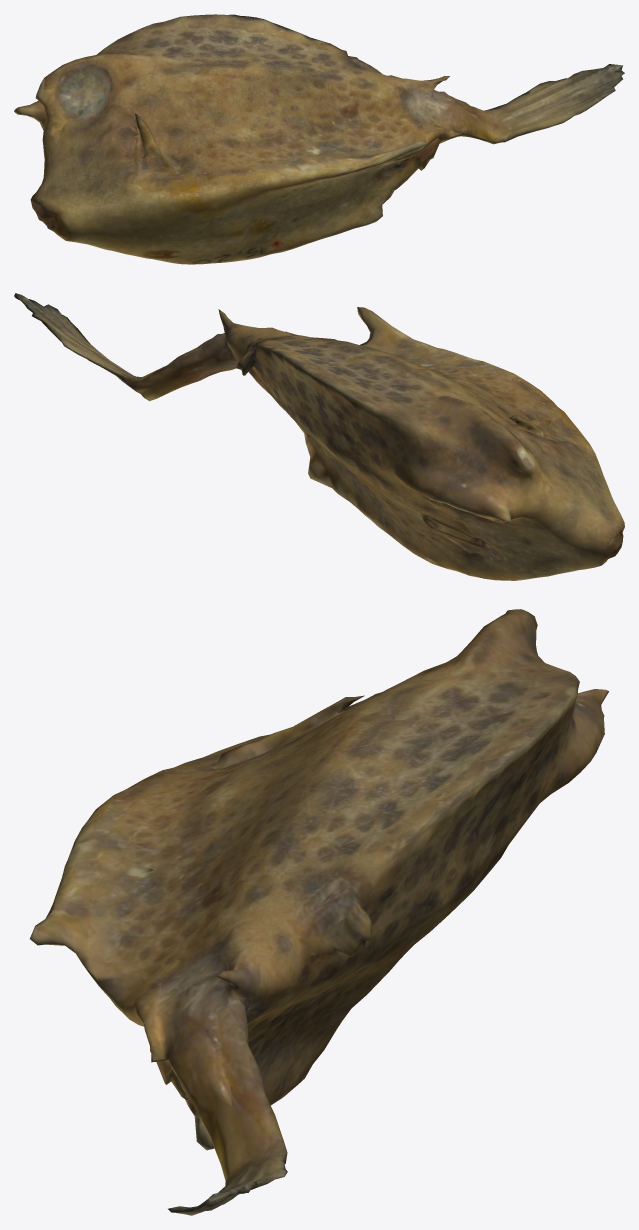
Rendered from cowfish.glb.
3 renders of one model, top to bottom at view 1: azimuth 30°, elevation 25°; view 2: azimuth 150°, elevation 25°; view 3: azimuth 270°, elevation 25°, orthographic. The views are drawn at different scales.
Visible parts, largest first — view 1: body; view 2: body; view 3: body.
Boxes of the visible parts, x1,y1,x2,y2 form: body: (14,14,624,264); body: (14,293,624,580); body: (30,609,608,1215).
Bounding box in the file's own units: 1 × 0.3361 × 0.4603.
1 material, 1 textured.
